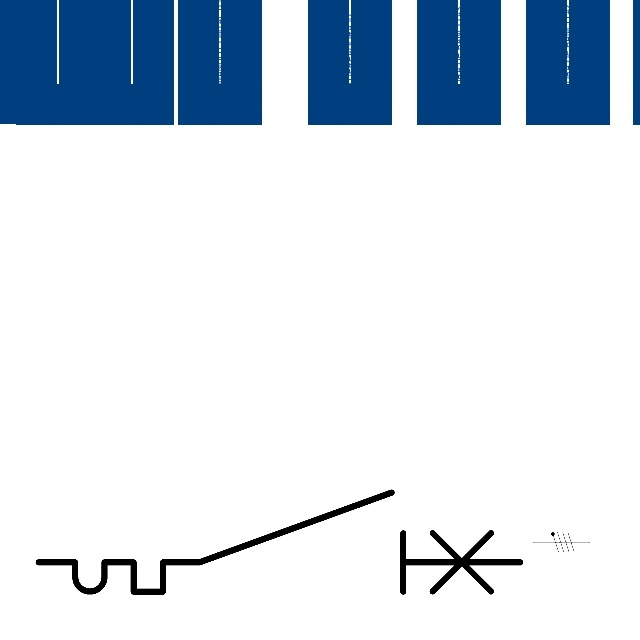interruptor_termomagnetico: (26, 480, 533, 604)
